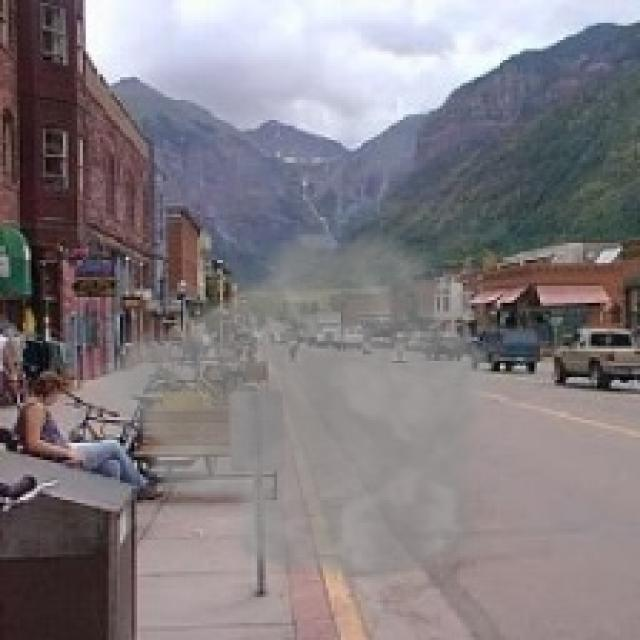smoke: (86, 223, 497, 588)
